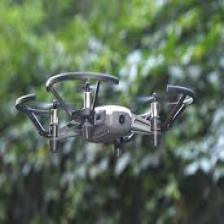drone: (15, 70, 184, 150)
